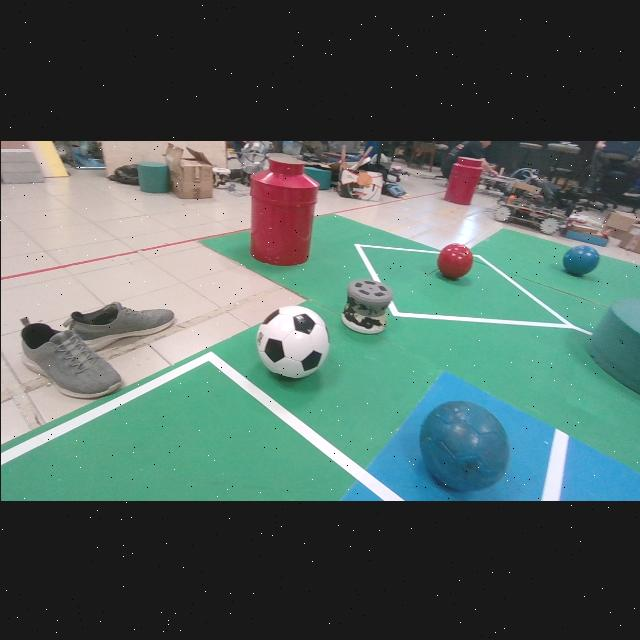B: (419, 400, 509, 490), (562, 244, 599, 275)
R: (437, 243, 473, 277)
